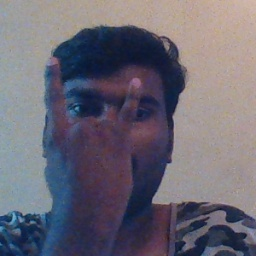V: (31, 52, 150, 213)
